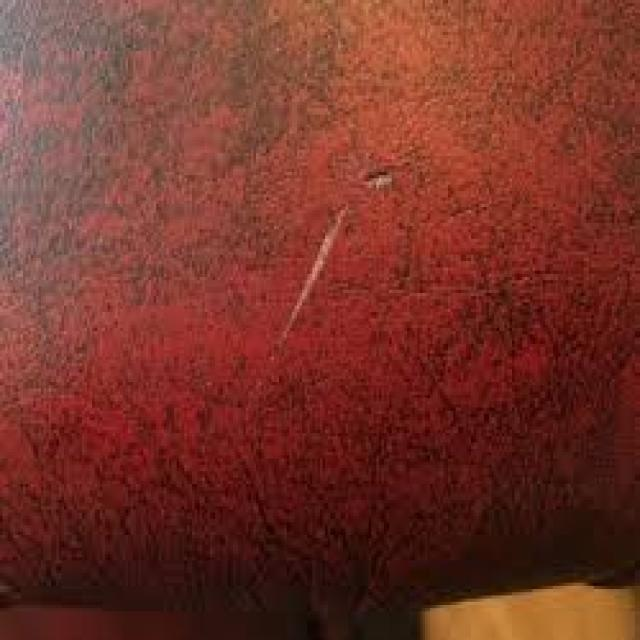Hole: (313, 106, 441, 255)
Scratch: (268, 135, 357, 365)
